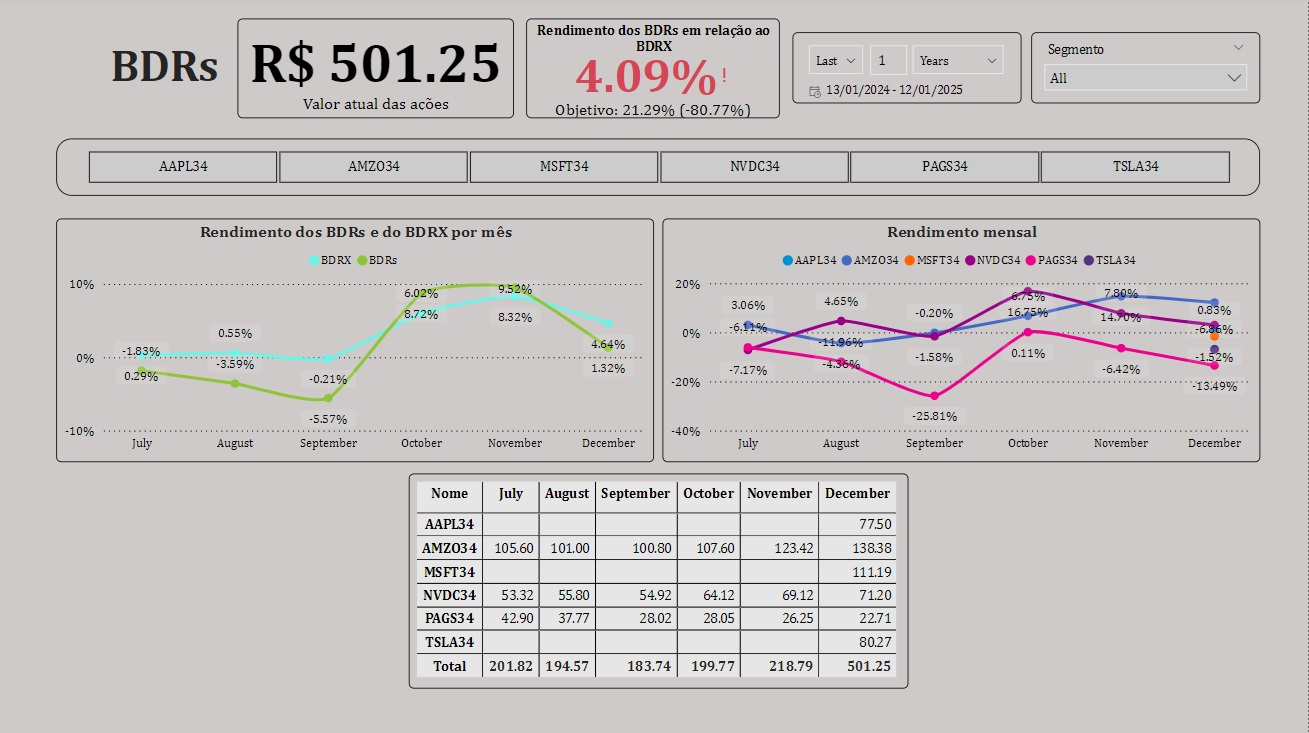

The page's visual inventory and layout, read from the dashboard file:
{"tool":"powerbi","page":{"name":"BDRs","canvas":[1280,720],"ordinal":5},"visuals":[{"type":"card","fields":{"Values":["Max(Visao_Geral.Valor_Atual)"]},"box":[232.3,22,270.2,97.8],"z":0},{"type":"textbox","box":[67.3,37.9,187.1,64.8],"z":1000},{"type":"slicer","fields":{"Values":["Report_Mensal_Single.Nome"]},"box":[55,139.4,1177.6,56.3],"z":2000},{"type":"slicer","fields":{"Values":["Invest_Acao.Tipo"]},"box":[1268.1,708,12.2,12.2],"z":3000},{"type":"slicer","fields":{"Values":["Visao_Geral.Tipo"]},"box":[1268.1,708,12.2,12.2],"z":4000},{"type":"slicer","fields":{"Values":["Invest_Acao.Segmento"]},"box":[1008.8,35.5,223.8,69.7],"z":5000},{"type":"pivotTable","fields":{"Rows":["Report_Mensal_Single.Nome"],"Values":["Sum(Report_Mensal_Single.Valor_Final)"],"Columns":["IBOV_IPCA.Mês.Variation.Date Hierarchy.Year","IBOV_IPCA.Mês.Variation.Date Hierarchy.Month"]},"box":[399.9,467.1,489.1,210.3],"z":6000},{"type":"lineChart","title":"Rendimento dos BDRs e do BDRX por mês","fields":{"Category":["IBOV_IPCA.Mês.Variation.Date Hierarchy.Year","IBOV_IPCA.Mês.Variation.Date Hierarchy.Month"],"Y":["Sum(IBOV_IPCA.BDRX)","Sum(IBOV_IPCA.BDRs)"]},"box":[55,217.7,584.5,238.5],"z":7000},{"type":"slicer","fields":{"Values":["IBOV_IPCA.Mês"]},"box":[775.3,35.5,223.8,69.7],"z":8000},{"type":"lineChart","title":"Rendimento mensal","fields":{"Category":["IBOV_IPCA.Mês.Variation.Date Hierarchy.Year","IBOV_IPCA.Mês.Variation.Date Hierarchy.Month"],"Y":["Sum(Report_Mensal_Single.%Rend)"],"Series":["Report_Mensal_Single.Nome"]},"box":[648.1,217.7,584.5,238.5],"z":9000},{"type":"kpi","title":"Rendimento dos BDRs em relação ao BDRX","fields":{"TrendLine":["KPI_Anual.Ano"],"Indicator":["Sum(KPI_Anual.BDRs)"],"Goal":["Sum(KPI_Anual.BDRX)"]},"box":[514.8,22,248.2,97.8],"z":10000}]}

Visuals, with their boxes in screenshot pixels (x1, y1, x2, y2), scaled from the page's 1280x720 canvas onto the 1309x733 screenshot:
card - Max(Visao_Geral.Valor_Atual): box(238, 22, 514, 122)
textbox: box(69, 39, 260, 105)
slicer - Report_Mensal_Single.Nome: box(56, 142, 1261, 199)
slicer - Invest_Acao.Tipo: box(1297, 721, 1308, 732)
slicer - Visao_Geral.Tipo: box(1297, 721, 1308, 732)
slicer - Invest_Acao.Segmento: box(1032, 36, 1261, 107)
pivotTable - Report_Mensal_Single.Nome x Sum(Report_Mensal_Single.Valor_Final): box(409, 476, 909, 690)
"Rendimento dos BDRs e do BDRX por mês" lineChart: box(56, 222, 654, 464)
slicer - IBOV_IPCA.Mês: box(793, 36, 1022, 107)
"Rendimento mensal" lineChart: box(663, 222, 1261, 464)
"Rendimento dos BDRs em relação ao BDRX" kpi: box(526, 22, 780, 122)
